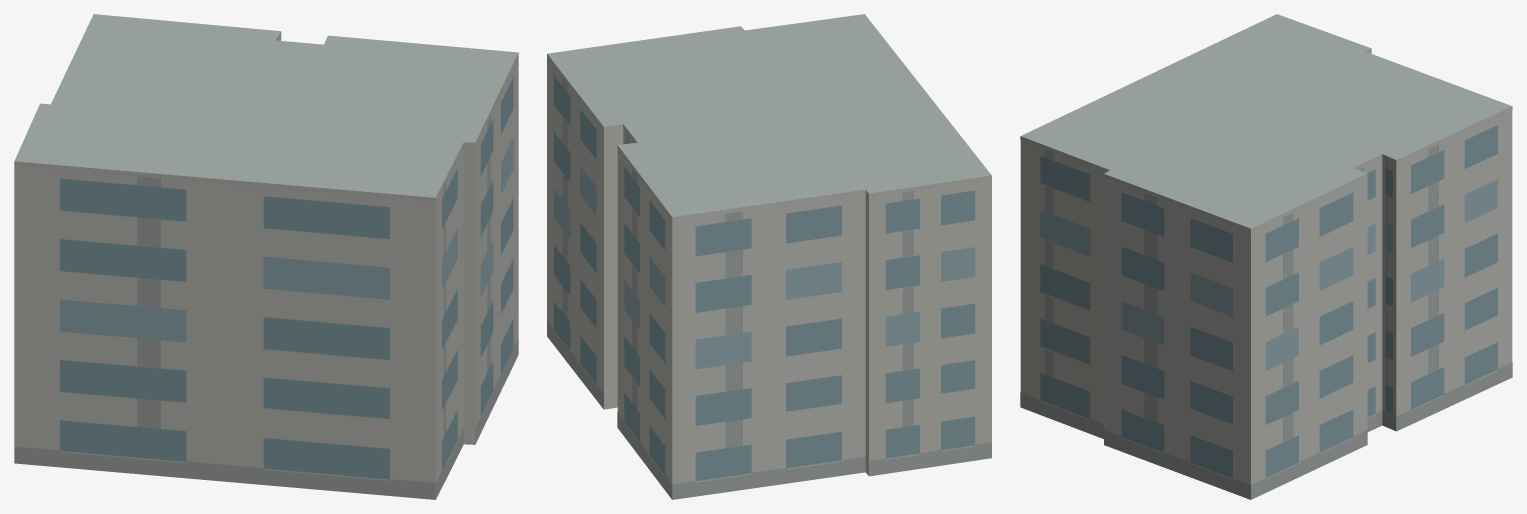
The model's file is survey-upis-32492379.glb.
The picture shows the model from 3 angles, left to right: view 1: azimuth 30°, elevation 25°; view 2: azimuth 150°, elevation 25°; view 3: azimuth 270°, elevation 25°; orthographic projection. The views are drawn at different scales.
Visible parts, largest first — view 1: survey-upis-32492379.tmp; view 2: survey-upis-32492379.tmp; view 3: survey-upis-32492379.tmp.
Boxes of the visible parts, <box> form: survey-upis-32492379.tmp: <box>14,14,518,499</box>; survey-upis-32492379.tmp: <box>547,14,991,499</box>; survey-upis-32492379.tmp: <box>1020,14,1512,499</box>.
Size of the model in its own units: 28.17 by 16.6 by 27.29.
